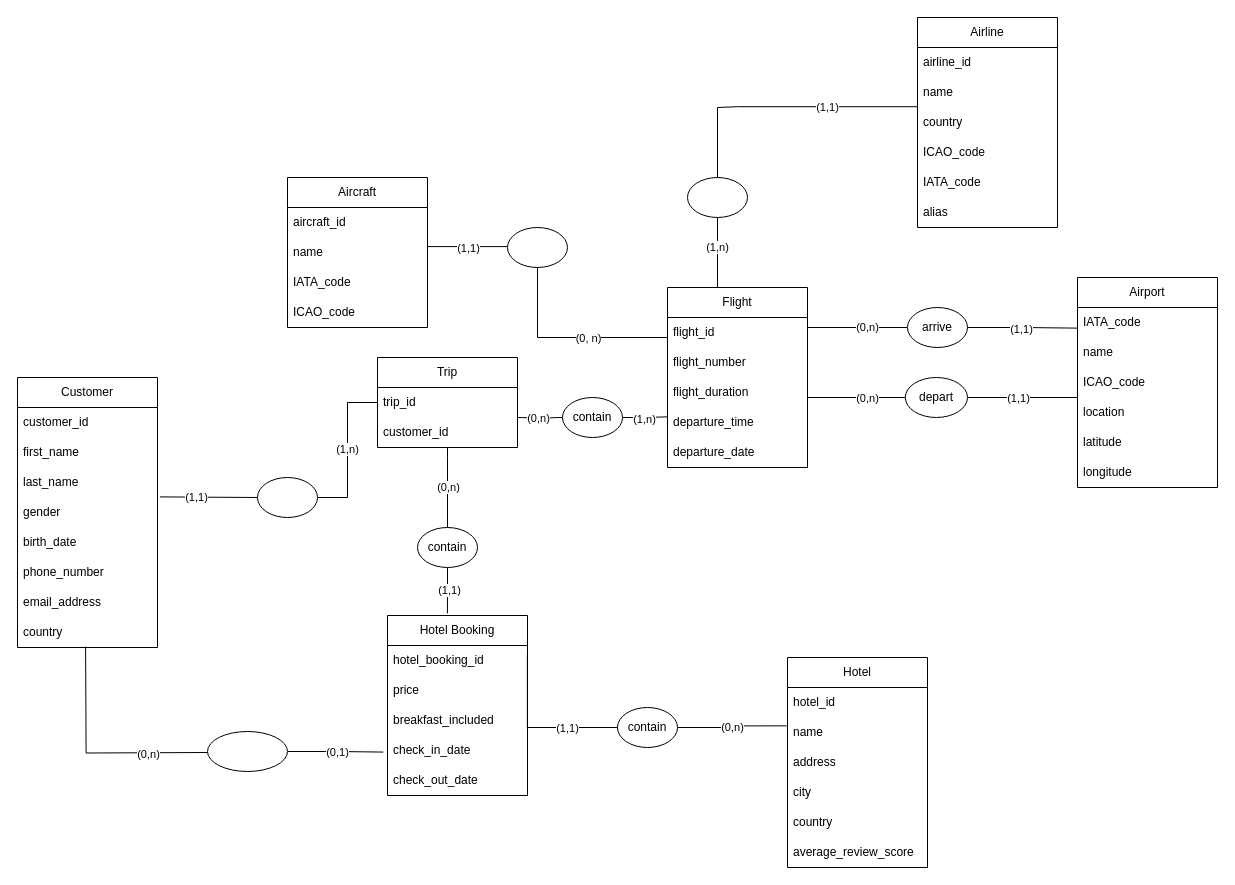
The diagram is 1235 pixels wide and 885 high, and some of its shapes have lost their labels. Here are the shapes that lost their labels. From the top down, the centre of each, then its label:
point (717, 197): operate
point (537, 247): use
point (287, 497): book
point (247, 751): review
